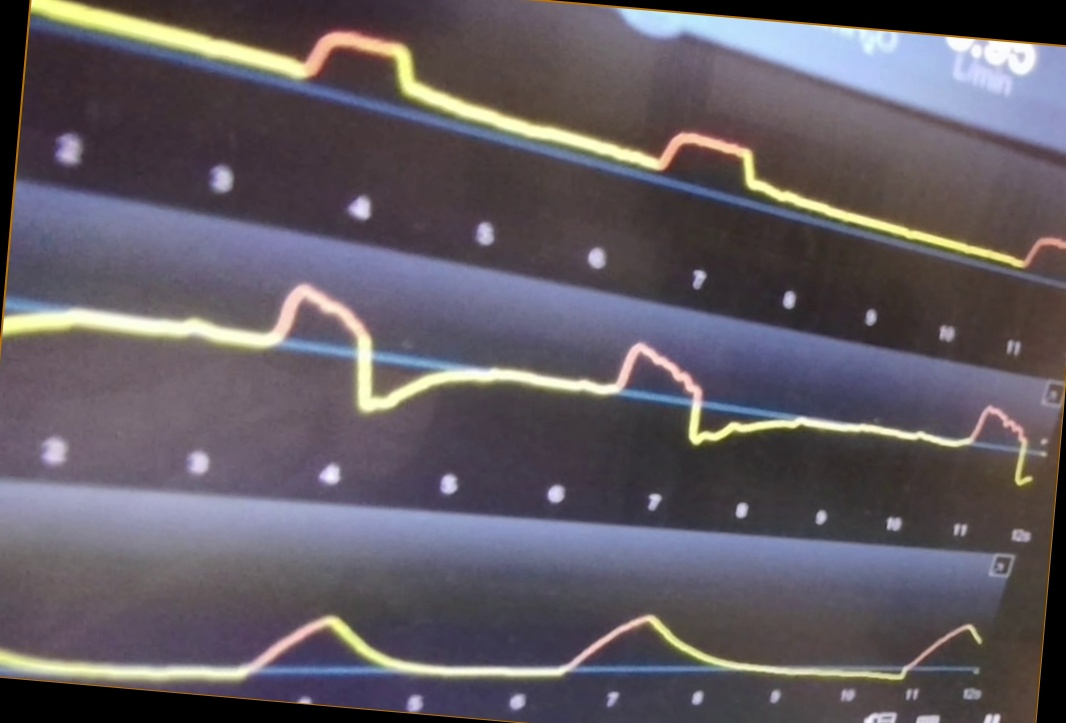Accumulation Flow: (6, 277, 1032, 486)
Volume: (3, 576, 981, 681)
